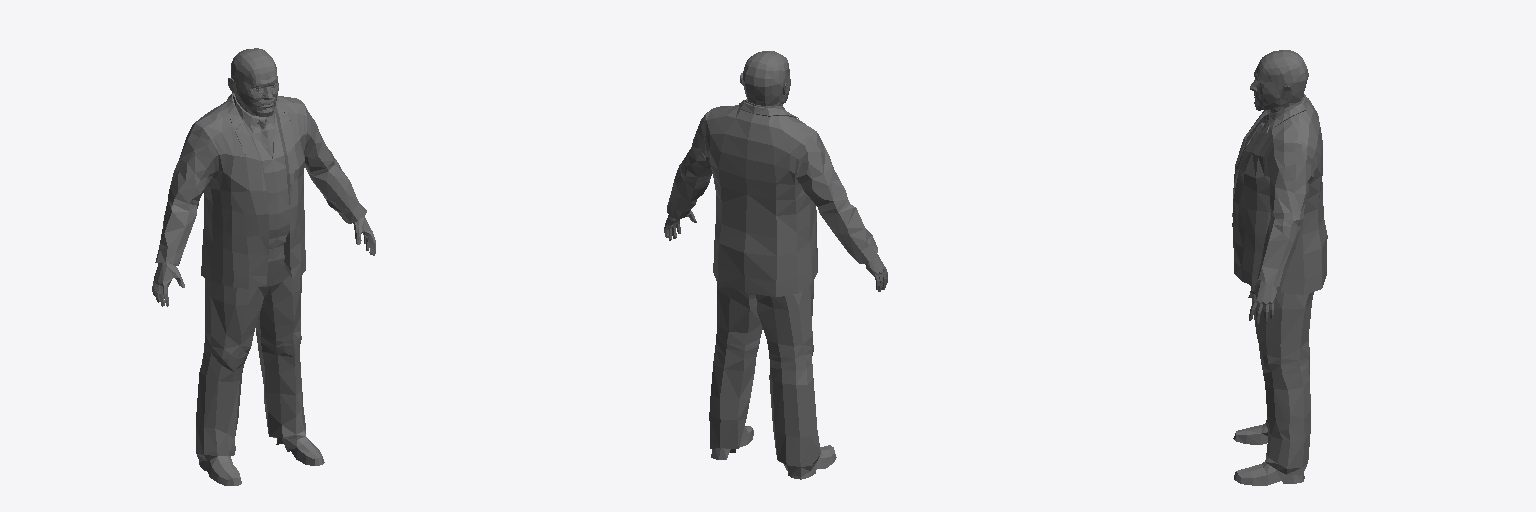
The model's file is PB_Henry_Pope.obj.
The picture shows the model from 3 angles: view 1: azimuth 30°, elevation 25°; view 2: azimuth 150°, elevation 25°; view 3: azimuth 270°, elevation 25°; orthographic projection.
Parts seen in each view (by area): view 1: Mesh_0073_Tex_0073_0_, Mesh_0074_Tex_0074_0_; view 2: Mesh_0073_Tex_0073_0_, Mesh_0074_Tex_0074_0_; view 3: Mesh_0073_Tex_0073_0_, Mesh_0074_Tex_0074_0_.
Part boxes in pixels (x1,y1,x2,y2): Mesh_0073_Tex_0073_0_: (152,92,375,485); Mesh_0074_Tex_0074_0_: (228,48,278,116); Mesh_0073_Tex_0073_0_: (664,99,887,479); Mesh_0074_Tex_0074_0_: (740,51,790,105); Mesh_0073_Tex_0073_0_: (1232,94,1327,485); Mesh_0074_Tex_0074_0_: (1250,50,1308,113).
Size of the model in its own units: 1.04 by 1.87 by 0.3945.